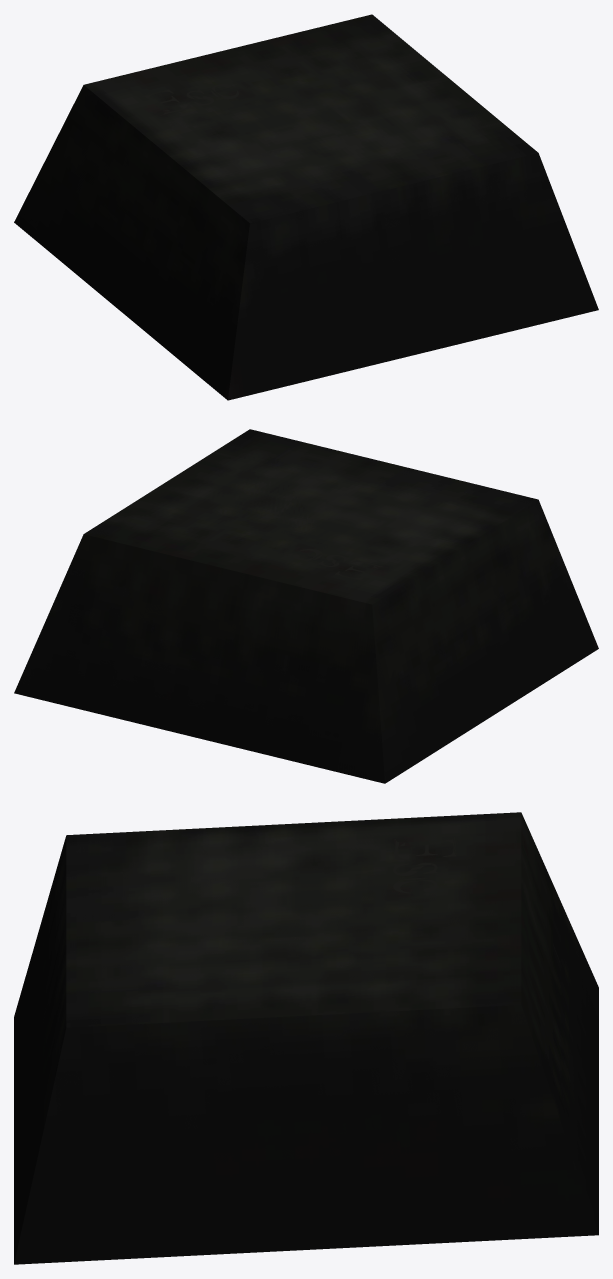
File: link_88__key-94.glb
The picture shows the model from 3 angles, top to bottom: view 1: azimuth 30°, elevation 25°; view 2: azimuth 150°, elevation 25°; view 3: azimuth 270°, elevation 25°; orthographic projection. The views are drawn at different scales.
Parts seen in each view (by area): view 1: geometry_0; view 2: geometry_0; view 3: geometry_0.
Part boxes in pixels (x1,y1,x2,y2): geometry_0: [14, 14, 598, 400]; geometry_0: [14, 429, 598, 783]; geometry_0: [14, 812, 598, 1264].
Size of the model in its own units: 0.0719 by 0.0315 by 0.0718.
1 material, 1 textured.
